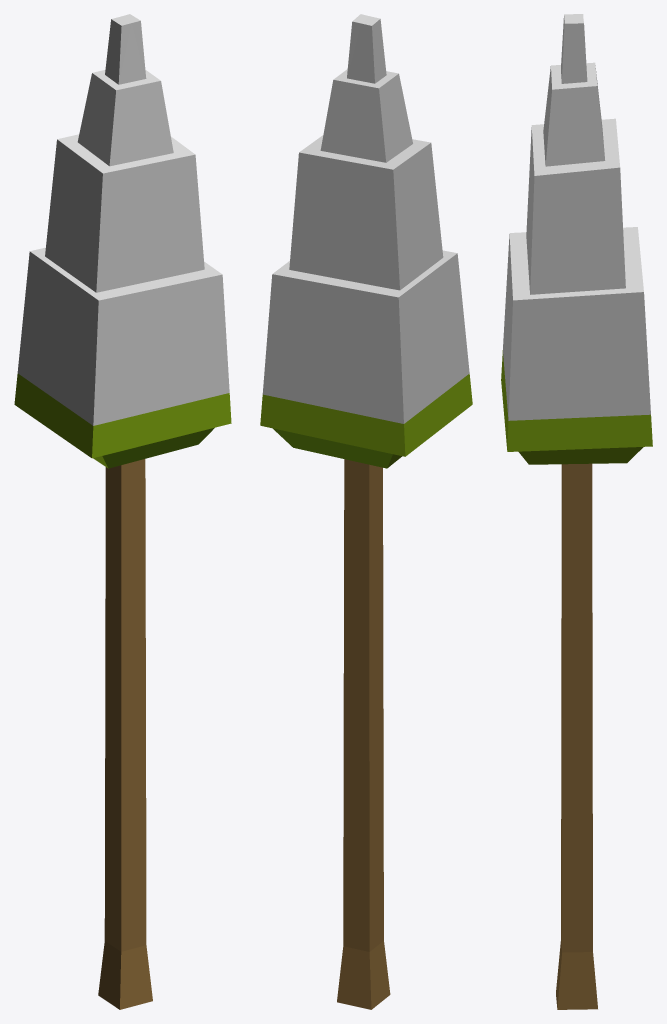
File: SF_Env_Tree_Snow_14.fbx
3 renders of one model, left to right at view 1: azimuth 30°, elevation 25°; view 2: azimuth 150°, elevation 25°; view 3: azimuth 270°, elevation 25°, orthographic.
Parts seen in each view (by area): view 1: SF_Env_Tree_Snow_14; view 2: SF_Env_Tree_Snow_14; view 3: SF_Env_Tree_Snow_14.
Boxes of the visible parts, x1=… form: SF_Env_Tree_Snow_14: x1=14, y1=14, x2=231, y2=1009; SF_Env_Tree_Snow_14: x1=260, y1=14, x2=472, y2=1009; SF_Env_Tree_Snow_14: x1=501, y1=14, x2=652, y2=1009.
Bounding box in the file's own units: 3.35 × 21.25 × 2.98.
